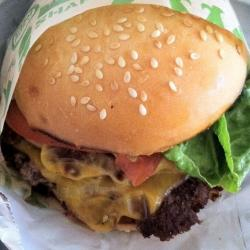burger: (6, 6, 247, 243)
